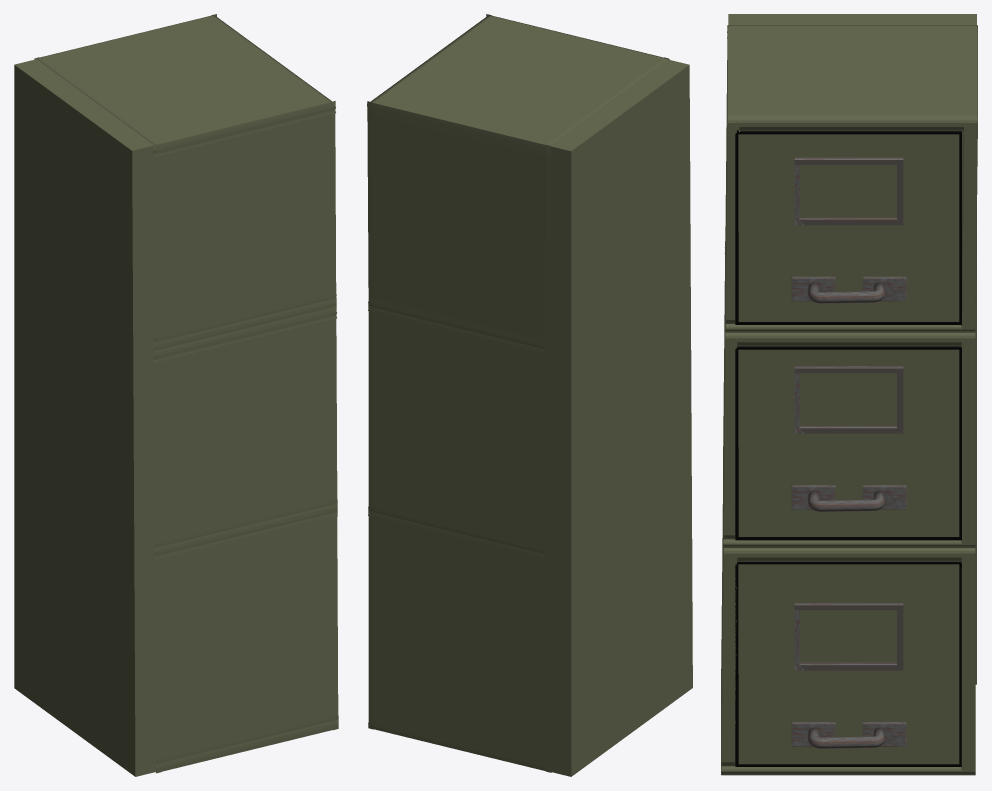
Rendered from filecabinent2.fbx.
3 renders of one model, left to right at view 1: azimuth 30°, elevation 25°; view 2: azimuth 150°, elevation 25°; view 3: azimuth 270°, elevation 25°, orthographic. The views are drawn at different scales.
Visible parts, largest first — view 1: Cube.004; view 2: Cube.004; view 3: Cube.004.
Boxes of the visible parts, x1,y1,x2,y2 form: Cube.004: (14,14,338,776); Cube.004: (367,14,692,776); Cube.004: (721,14,977,775).
Bounding box in the file's own units: 254 × 660 × 233.
Materials: 10 (3 with a texture image).
